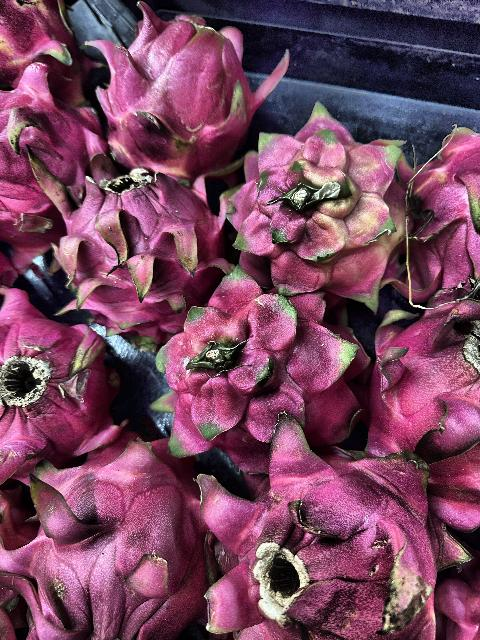buah-naga-belum-matang: (214, 122, 418, 294)
buah-naga-matang: (184, 424, 466, 640), (0, 444, 220, 640), (142, 269, 366, 453), (24, 140, 234, 330), (78, 5, 292, 155), (366, 293, 480, 513), (0, 279, 118, 471), (0, 77, 98, 243), (400, 114, 480, 292), (0, 0, 84, 86)
